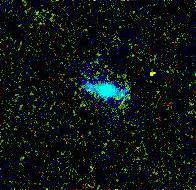star: (137, 59, 167, 89)
